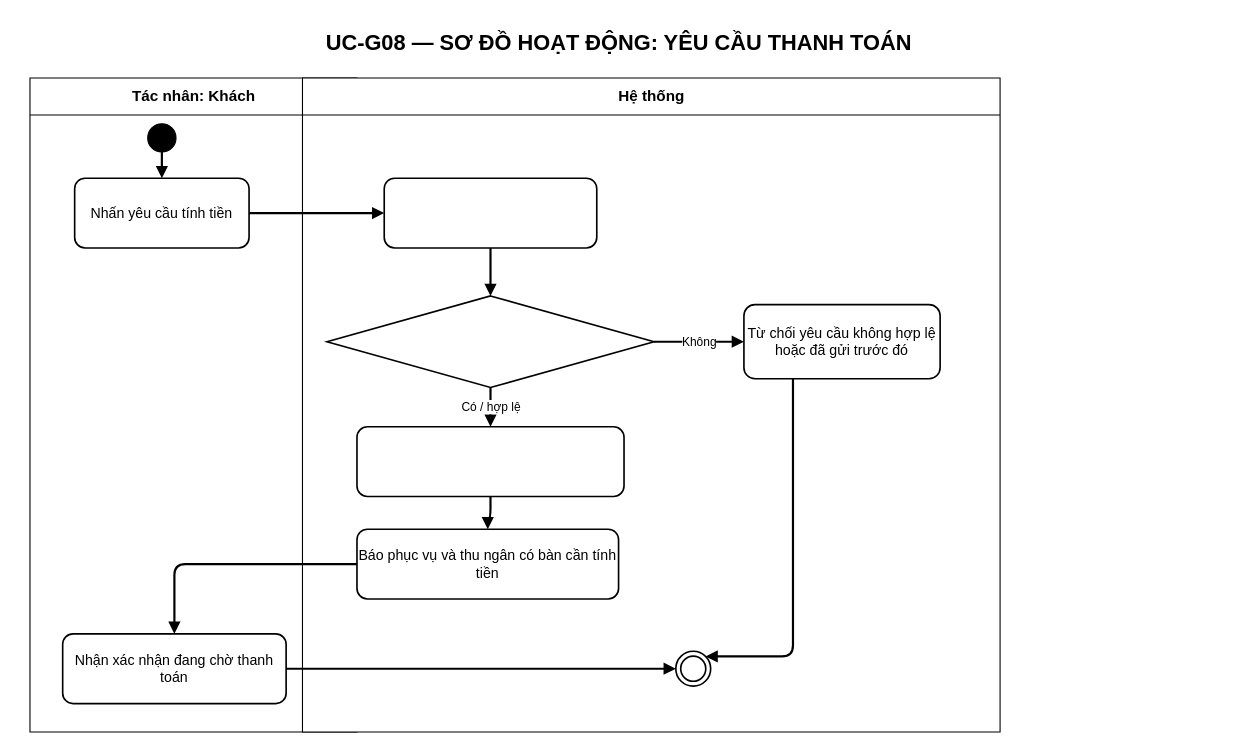
Some shapes in this 1236 by 751 pixel diagram are drawn without their labels. Each missing label, with the centre of its shape:
"Chuyển phiên sang chờ thanh toán và ghi thời điểm yêu cầu" belongs at point 490,461.
"Kiểm tra quyền truy cập phiên của khách" belongs at point 490,212.
"Phiên đang phục vụ và có món cần thanh toán?" belongs at point 490,341.
